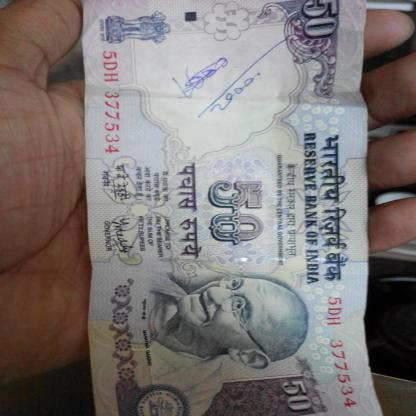Old50Front: (83, 0, 385, 416)
